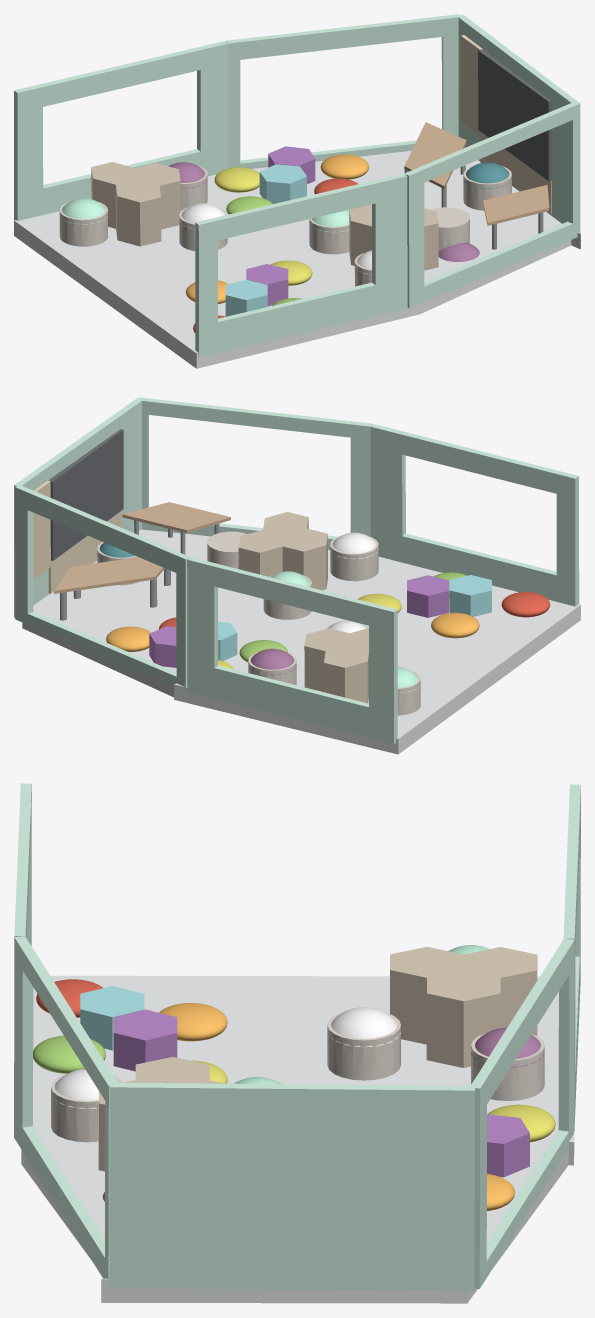
The picture shows the model from 3 angles, top to bottom: view 1: azimuth 30°, elevation 25°; view 2: azimuth 150°, elevation 25°; view 3: azimuth 270°, elevation 25°; orthographic projection. The views are drawn at different scales.
Parts seen in each view (by area): view 1: Object_4, Object_9, Object_5, Object_8, Object_13, Object_3, Object_10, Object_16, Object_18, Object_7, Object_11, Object_19 (+5 smaller); view 2: Object_4, Object_9, Object_5, Object_13, Object_8, Object_3, Object_18, Object_10, Object_16, Object_11, Object_6, Object_2 (+5 smaller); view 3: Object_4, Object_9, Object_5, Object_8, Object_18, Object_2, Object_11, Object_16, Object_7, Object_17, Object_6, Object_15.
Part boxes in pixels (x1,y1,x2,y2): Object_4: (14, 14, 580, 357); Object_9: (14, 150, 580, 368); Object_5: (91, 162, 438, 270); Object_8: (59, 166, 511, 286); Object_13: (478, 49, 551, 180); Object_3: (404, 122, 549, 225); Object_10: (460, 35, 551, 213); Object_16: (225, 164, 306, 316); Object_18: (246, 146, 315, 306); Object_7: (214, 167, 312, 285); Object_11: (185, 154, 369, 303); Object_19: (59, 198, 349, 232); Object_4: (14, 397, 579, 744); Object_9: (22, 529, 580, 754); Object_5: (238, 512, 368, 703); Object_13: (48, 429, 123, 560); Object_8: (97, 531, 420, 715); Object_3: (54, 502, 230, 593); Object_18: (149, 575, 449, 667); Object_10: (33, 480, 121, 593); Object_16: (218, 575, 491, 660); Object_11: (106, 612, 479, 651); Object_6: (159, 592, 550, 629); Object_2: (328, 532, 378, 633); Object_4: (14, 783, 580, 1290); Object_9: (21, 975, 574, 1303); Object_5: (98, 946, 537, 1171); Object_8: (51, 950, 544, 1142); Object_18: (113, 1009, 529, 1177); Object_2: (51, 1007, 400, 1108); Object_11: (159, 1003, 515, 1210); Object_16: (80, 986, 144, 1050); Object_7: (191, 1060, 555, 1142); Object_17: (33, 1035, 105, 1073); Object_6: (36, 979, 102, 1017); Object_15: (102, 1027, 544, 1201).
Size of the model in its own units: 670 by 221 by 522.
